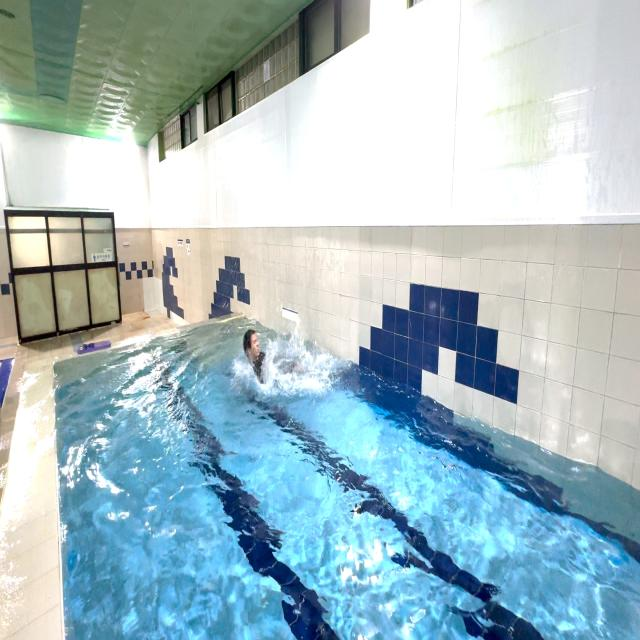Drowning: (242, 310, 294, 398)
